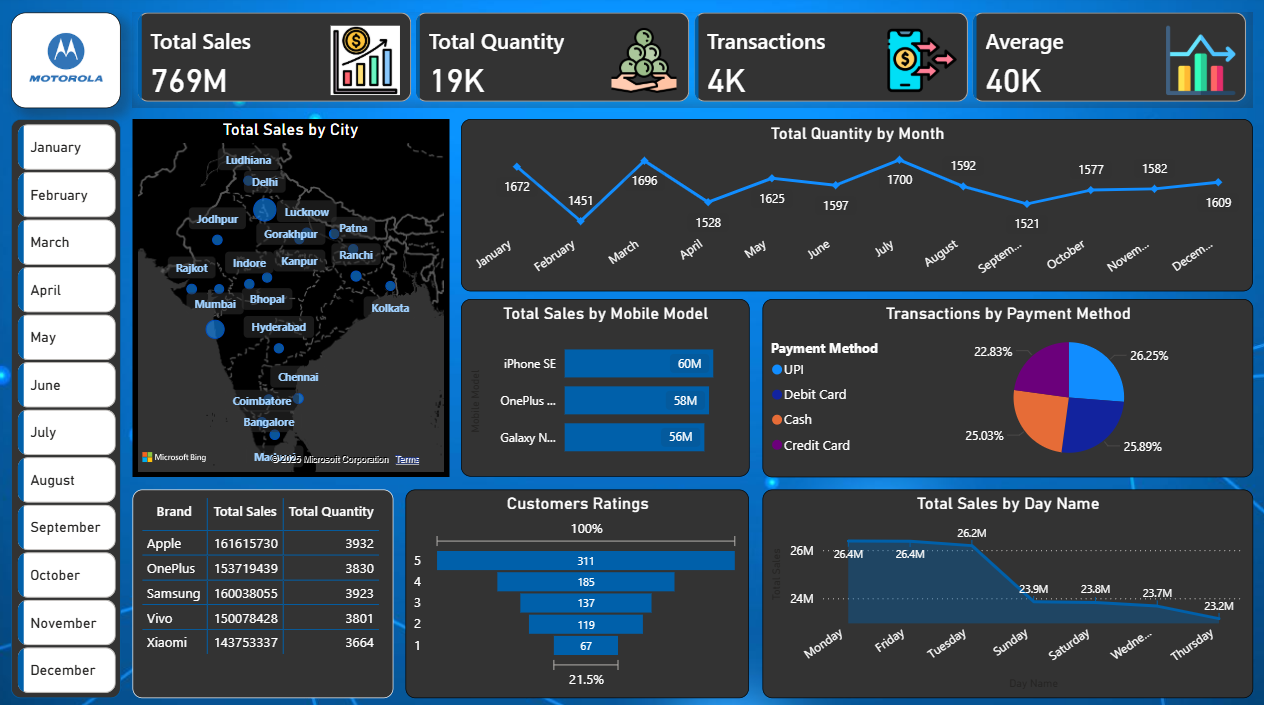

The dashboard page shown, as its layout file describes it:
{"tool":"powerbi","page":{"name":"Page 1","canvas":[1280,720],"ordinal":0},"visuals":[{"type":"shape","box":[12.1,16.7,110.5,96.9],"z":0},{"type":"image","box":[0,16.7,134.8,96.9],"z":1000},{"type":"shape","box":[12.1,124.2,110.5,584.5],"z":2000},{"type":"advancedSlicerVisual","fields":{"Values":["Sales_Data.Date.Variation.Date Hierarchy.Month"]},"box":[13.6,124.2,109,584.5],"z":3000},{"type":"cardVisual","fields":{"Data":["Sales_Data.Total Sales","Sales_Data.Total Quantity","Sales_Data.Transactions","Sales_Data.Average"]},"box":[134.8,16.7,1131.1,96.9],"z":4000},{"type":"map","fields":{"Category":["Sales_Data.City"],"Size":["Sales_Data.Total Sales"]},"box":[134.2,124.7,319.4,360.9],"z":5000},{"type":"lineChart","fields":{"Category":["Sales_Data.Date.Variation.Date Hierarchy.Month","Sales_Data.Date.Variation.Date Hierarchy.Day"],"Y":["Sales_Data.Total Quantity"]},"box":[466.4,124.2,799.5,174.1],"z":6000},{"type":"clusteredBarChart","fields":{"Category":["Sales_Data.Mobile Model"],"Y":["Sales_Data.Total Sales"]},"box":[466.8,306.1,291,179.5],"z":7000},{"type":"pieChart","fields":{"Category":["Sales_Data.Payment Method"],"Y":["Sales_Data.Transactions"]},"box":[770.7,305.9,495.1,180.2],"z":8000},{"type":"funnel","title":"Customers Ratings","fields":{"Category":["Sales_Data.Customer Ratings"],"Y":["CountNonNull(Sales_Data.Customer Ratings)"]},"box":[410.3,498.2,346.8,210.5],"z":9000},{"type":"areaChart","title":"Total Sales by Day Name","fields":{"Category":["Sales_Data.Day Name"],"Y":["Sales_Data.Total Sales"]},"box":[770.7,498.2,495.1,210.5],"z":10000},{"type":"tableEx","title":"Customers Ratings","fields":{"Values":["Sales_Data.Brand","Sales_Data.Total Sales","Sales_Data.Total Quantity"]},"box":[134.8,498.2,263.5,210.5],"z":11000}]}

Visuals, with their boxes in screenshot pixels (x1, y1, x2, y2), scaled from the page's 1280x720 canvas onto the 1264x705 screenshot:
shape: box(12, 16, 121, 111)
image: box(0, 16, 133, 111)
shape: box(12, 122, 121, 694)
advancedSlicerVisual - Sales_Data.Date.Variation.Date Hierarchy.Month: box(13, 122, 121, 694)
cardVisual - Sales_Data.Total Sales x Sales_Data.Total Quantity: box(133, 16, 1250, 111)
map - Sales_Data.City x Sales_Data.Total Sales: box(133, 122, 448, 475)
lineChart - Sales_Data.Date.Variation.Date Hierarchy.Month x Sales_Data.Date.Variation.Date Hierarchy.Day: box(461, 122, 1250, 292)
clusteredBarChart - Sales_Data.Mobile Model x Sales_Data.Total Sales: box(461, 300, 748, 475)
pieChart - Sales_Data.Payment Method x Sales_Data.Transactions: box(761, 300, 1250, 476)
"Customers Ratings" funnel: box(405, 488, 748, 694)
"Total Sales by Day Name" areaChart: box(761, 488, 1250, 694)
"Customers Ratings" tableEx: box(133, 488, 393, 694)
